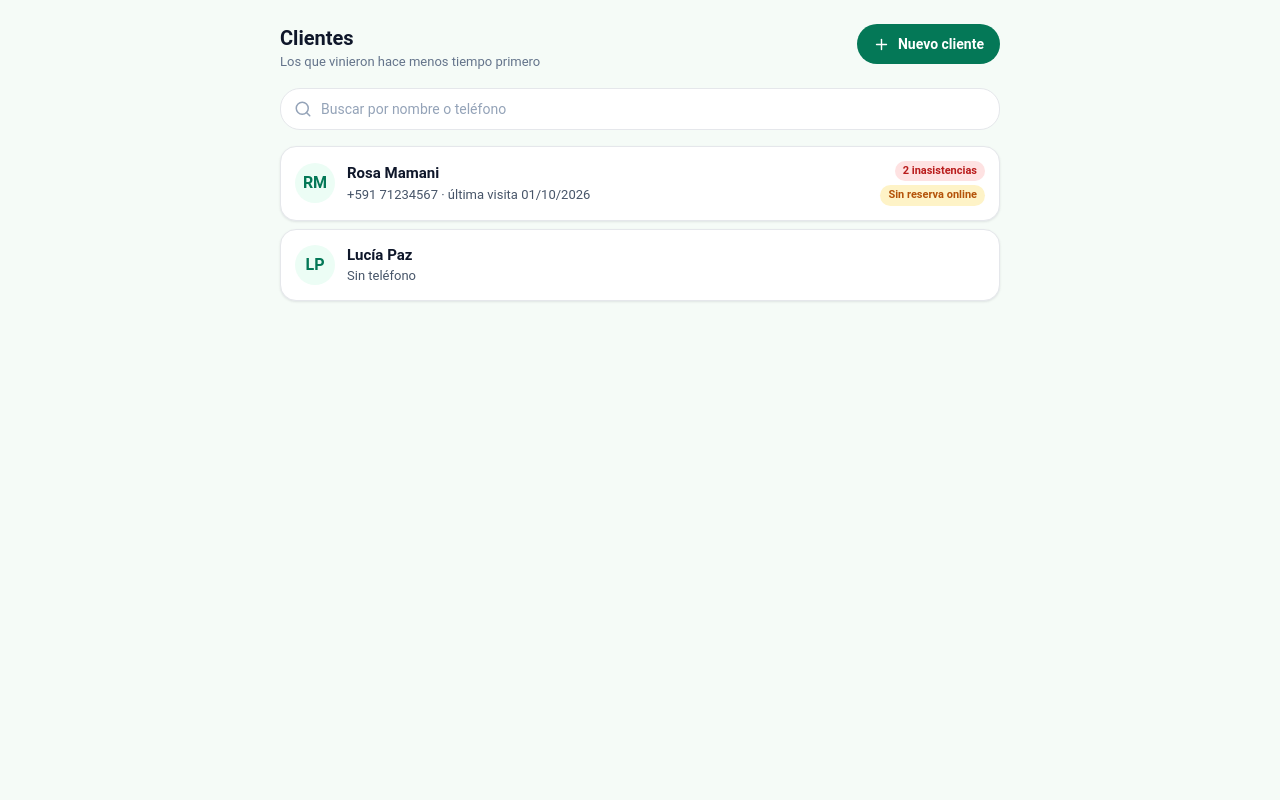
A7 · Clientes › S2-06: la compra del paquete sale en las compras y la sesión dice de qué paquete
Click the button with aria-label "Ver la ficha de Rosa Mamani". click: click(315, 183)
box: [280,146,1000,220]
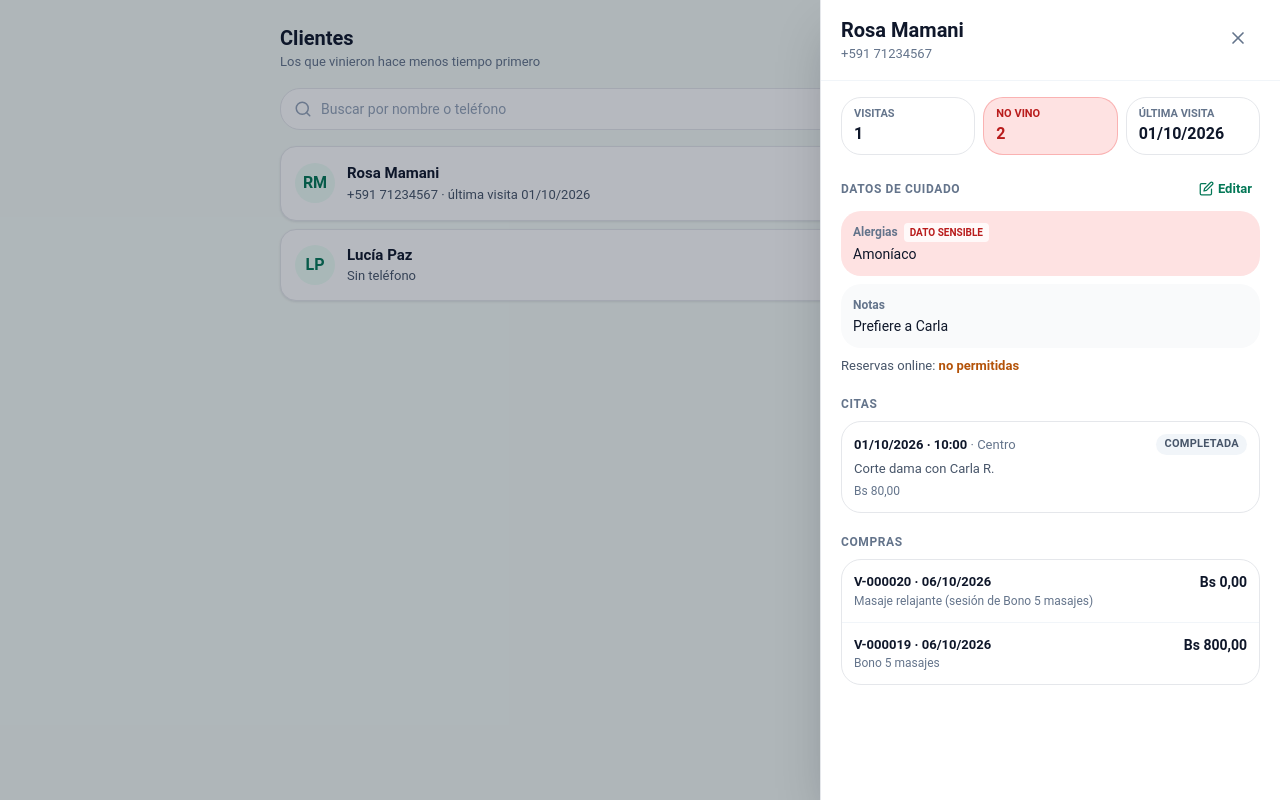
Result: the text "Masaje relajante (sesión de Bono 5 masajes)" is shown at [854,594,1093,608]
Result: the text "V-000019 · 06/10/2026" is shown at [854,636,991,652]
